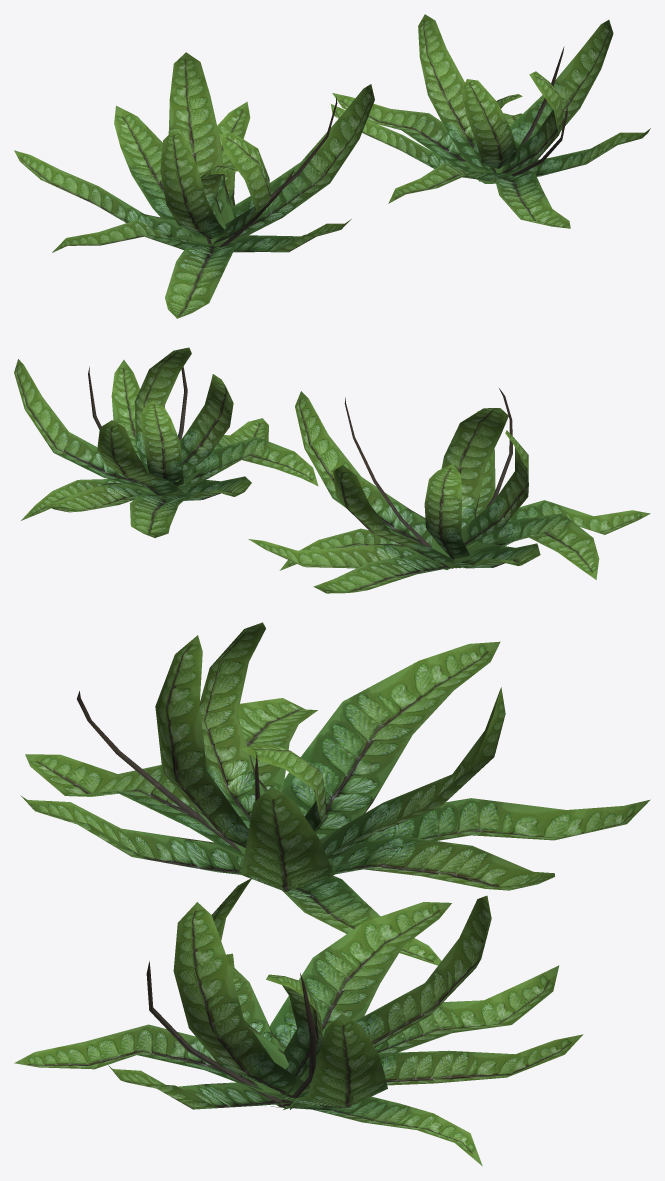
The model's file is maidenhair spleenwort.FBX.
The picture shows the model from 3 angles, top to bottom: view 1: azimuth 30°, elevation 25°; view 2: azimuth 150°, elevation 25°; view 3: azimuth 270°, elevation 25°; orthographic projection. The views are drawn at different scales.
Parts seen in each view (by area): view 1: maidenhair spleenwort, maidenhair spleenwort001; view 2: maidenhair spleenwort, maidenhair spleenwort001; view 3: maidenhair spleenwort, maidenhair spleenwort001.
Boxes of the visible parts, box(x1,y1,x2,y2) form: maidenhair spleenwort: box(14, 52, 374, 318); maidenhair spleenwort001: box(331, 14, 650, 228); maidenhair spleenwort: box(248, 388, 650, 593); maidenhair spleenwort001: box(14, 347, 318, 537); maidenhair spleenwort: box(20, 622, 650, 965); maidenhair spleenwort001: box(14, 877, 583, 1165).
Bounding box in the file's own units: 107 × 26.31 × 65.18.
